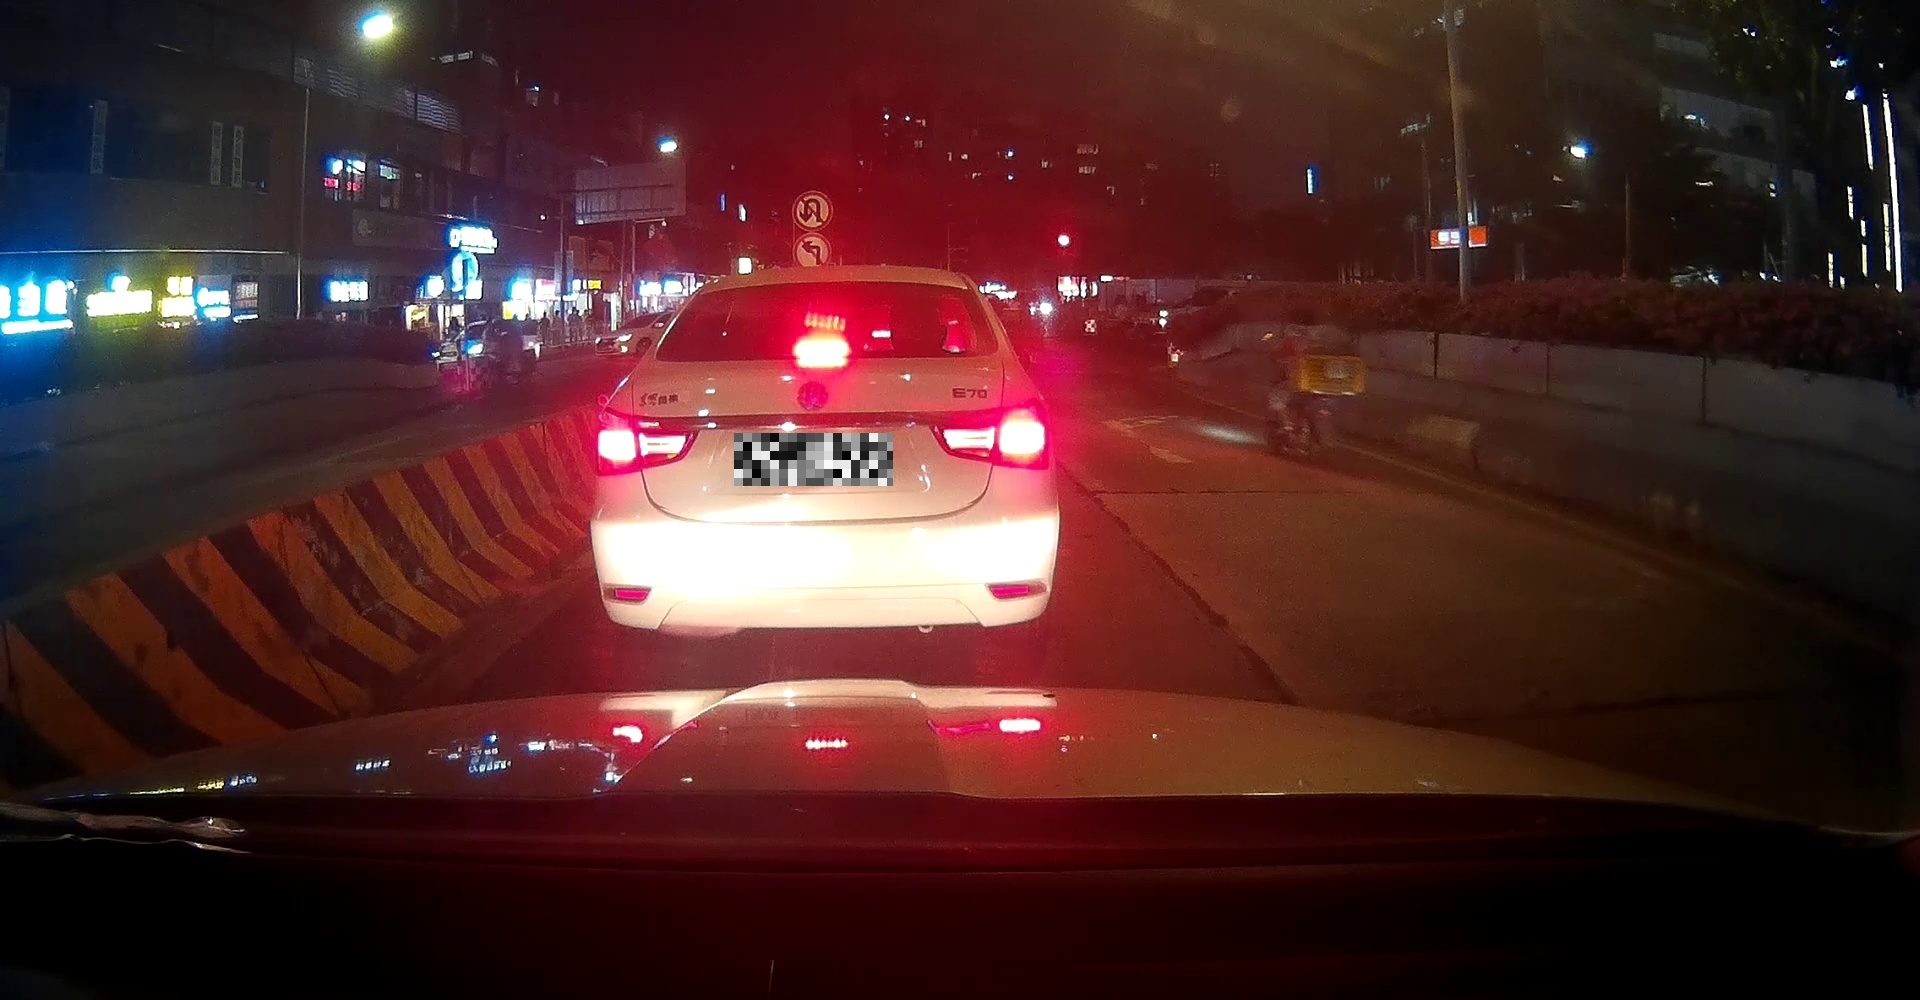L_light: (596, 406, 698, 476)
R_light: (930, 402, 1050, 471)
T_light: (791, 338, 848, 357)
night-brake: (590, 269, 1062, 678)
plate_1: (734, 433, 893, 486)
